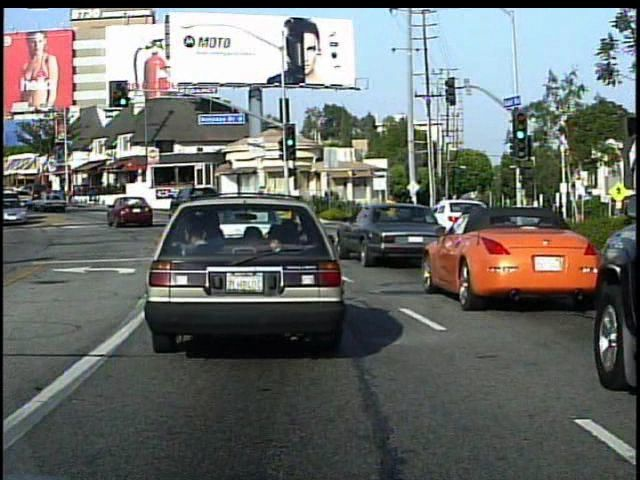person: (380, 191, 401, 230), (403, 192, 422, 233)
